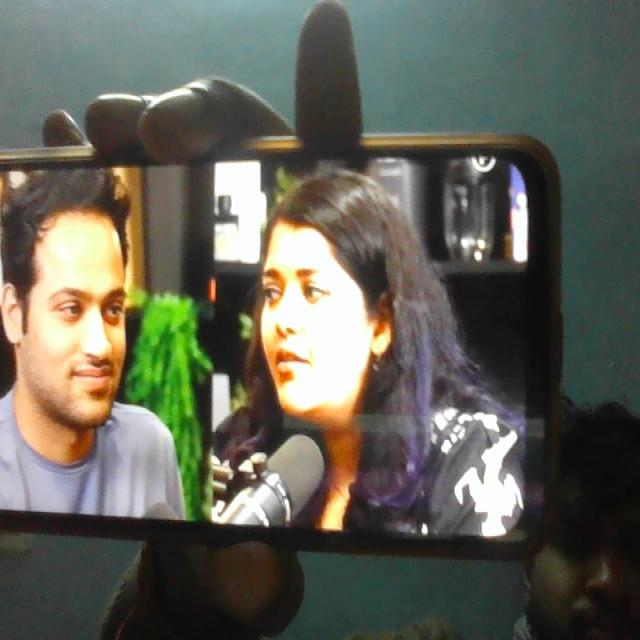fake: (236, 141, 398, 447), (6, 176, 145, 439)
